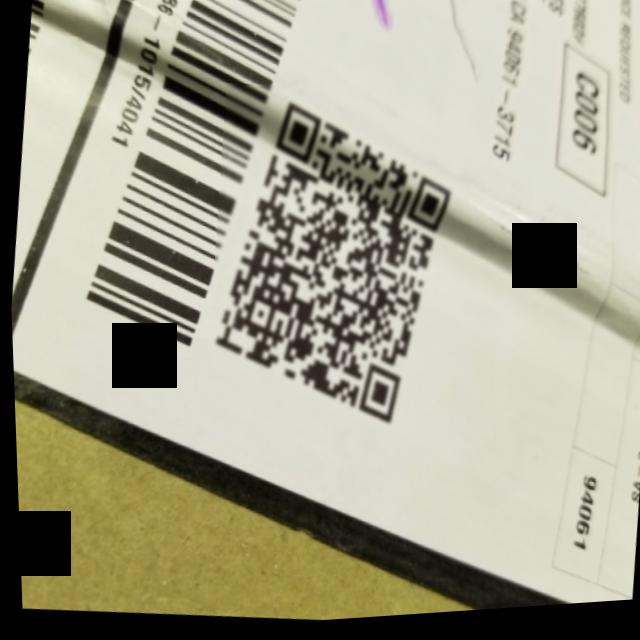QR_CODE: (187, 74, 479, 474)
